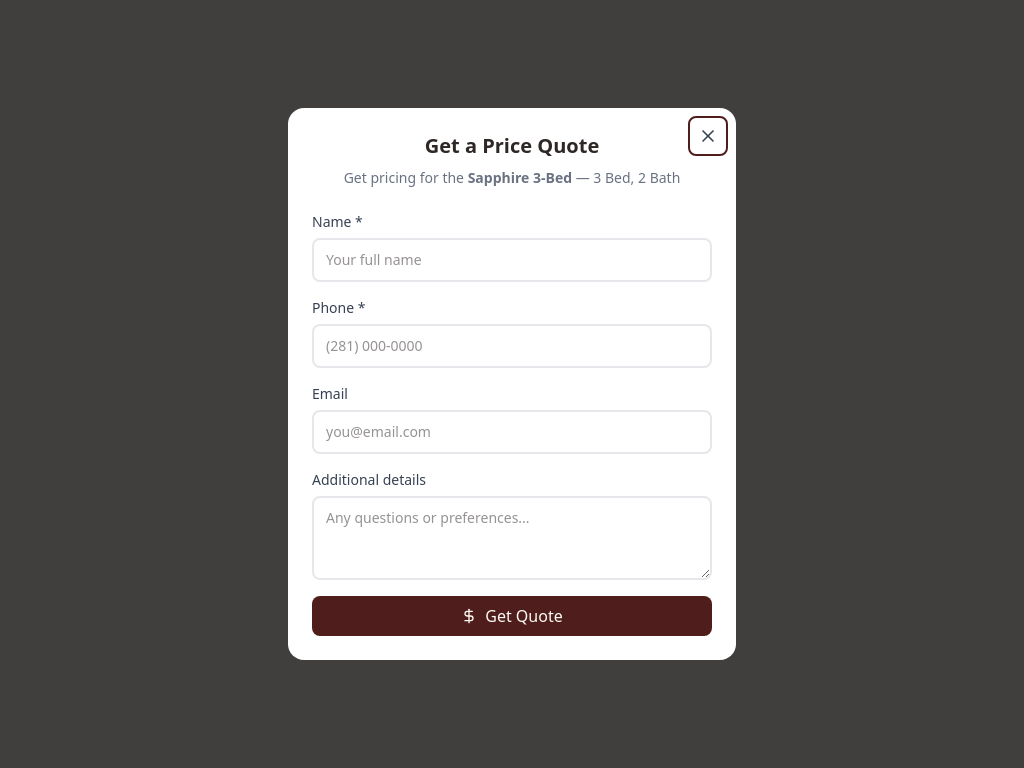
Test: LeadCaptureForm › shows an error and NOT a success screen when the backend returns {success:false}
Type "Alice Buyer" into the field with placeholder "Your full name" at (512, 260), box left=312, top=238, right=712, bottom=282
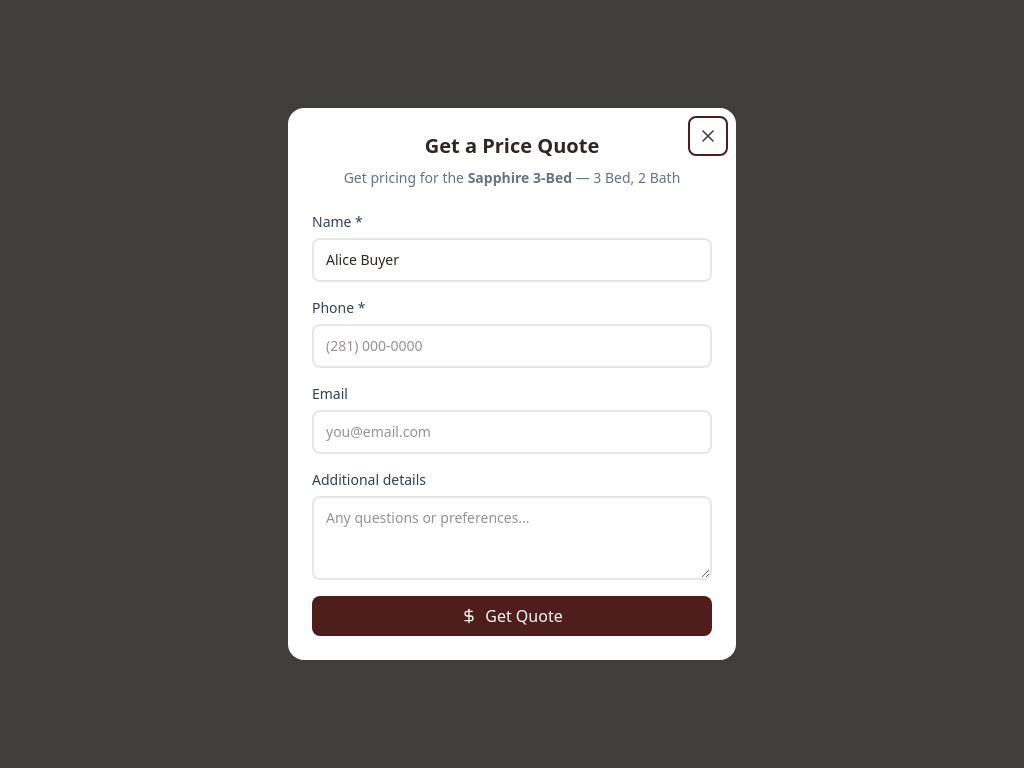
Type "2813243020" into the field with placeholder "(281) 000-0000" at (512, 346), box left=312, top=324, right=712, bottom=368
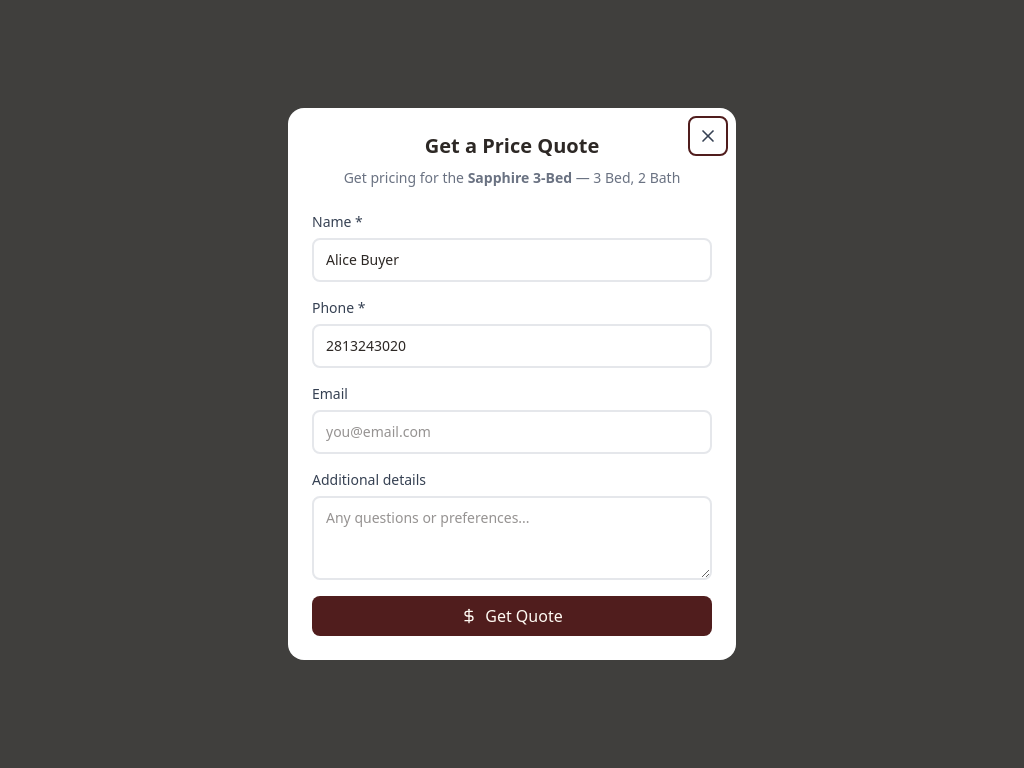
Click the button "Get Quote" at (512, 616), box left=312, top=596, right=712, bottom=636
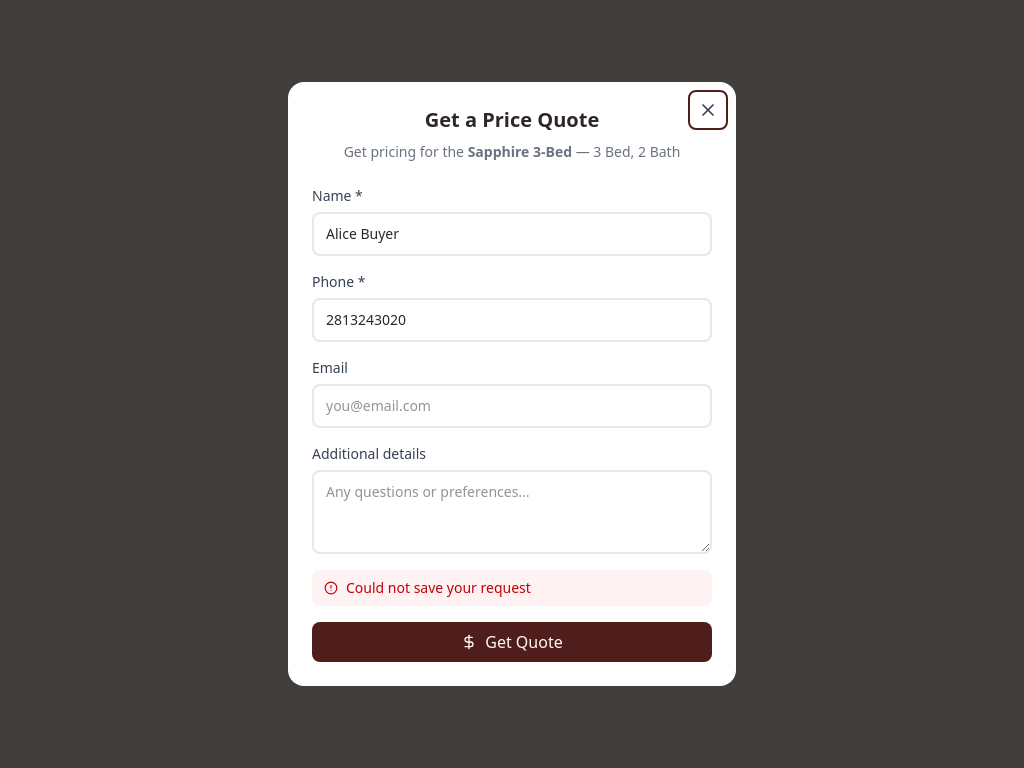
Now the text "Could not save your request" is shown, box left=312, top=570, right=712, bottom=606
